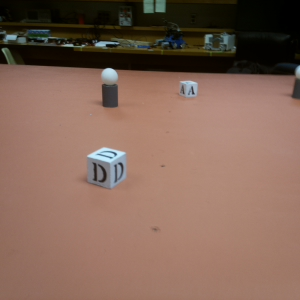blockA: (179, 81, 199, 97)
blockD: (87, 146, 128, 188)
obstacle: (100, 68, 121, 107)
